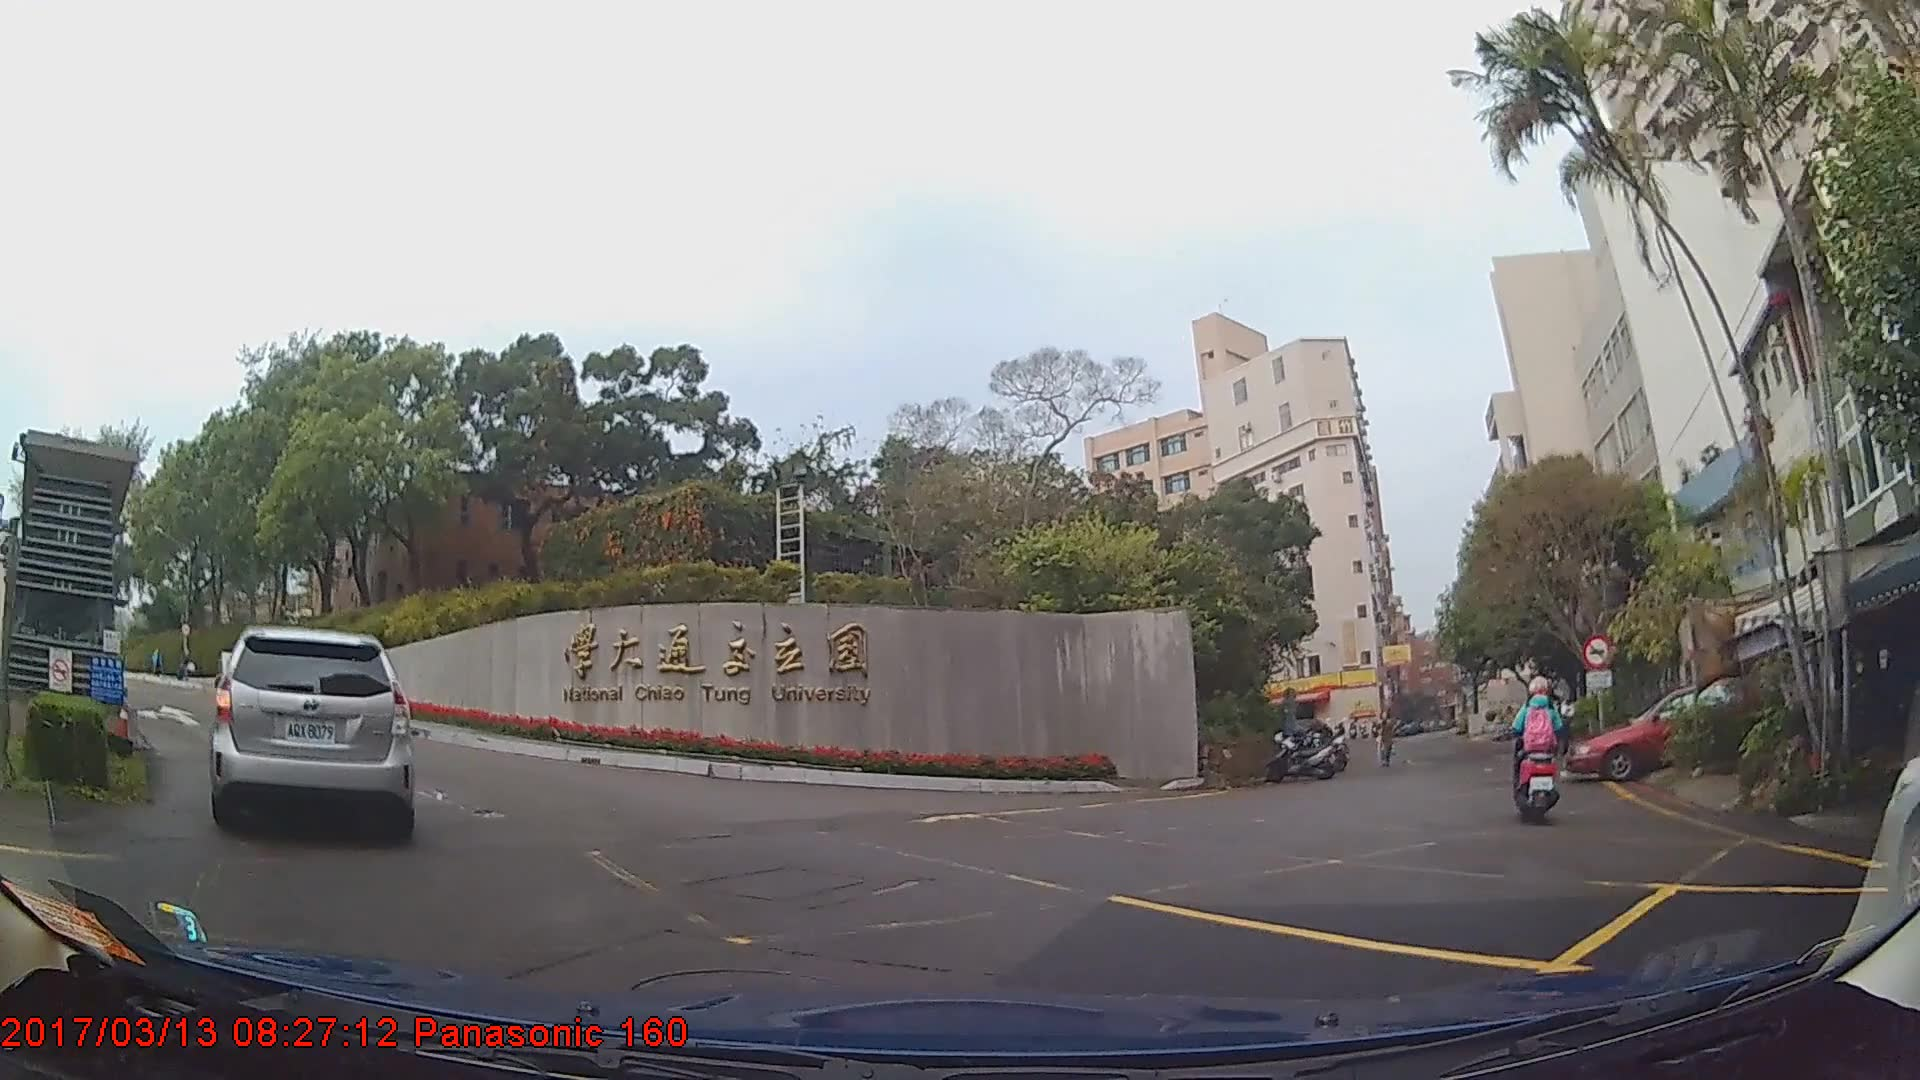pedestrian: (1374, 711, 1398, 769)
rider: (1512, 665, 1564, 818)
vehicle: (209, 624, 414, 842), (1565, 681, 1763, 780)
